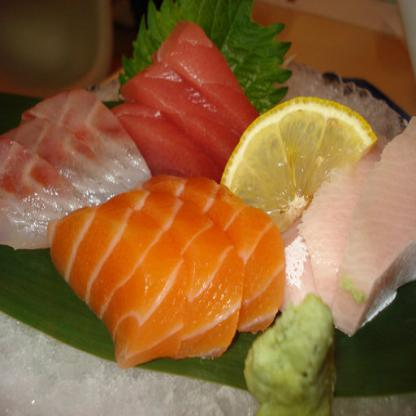salmon: (124, 175, 277, 362), (49, 197, 184, 364)
tuna: (116, 20, 256, 188)
